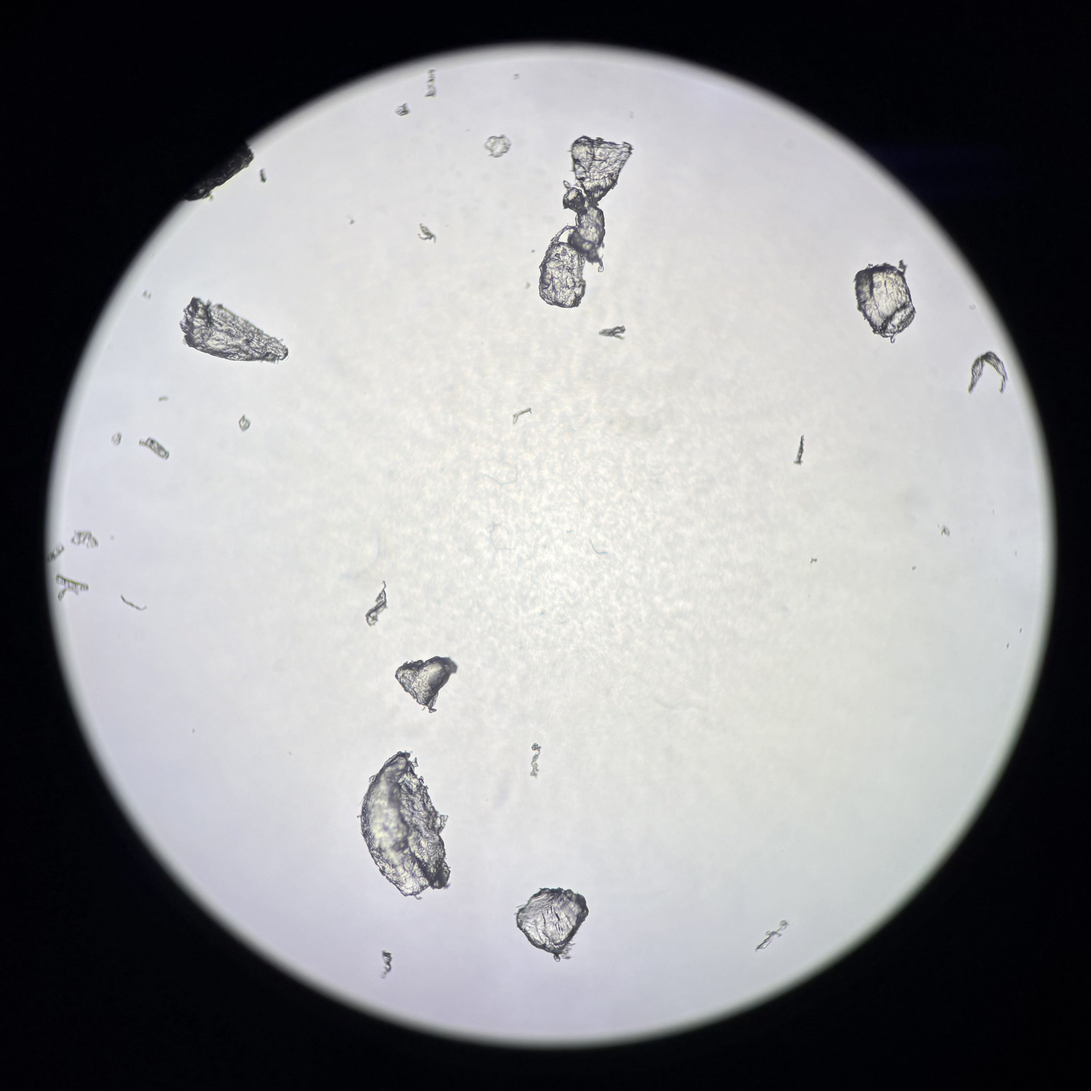microplastic: (533, 129, 632, 311), (355, 751, 456, 902), (173, 293, 295, 372), (504, 881, 592, 957), (851, 260, 923, 342), (394, 652, 464, 717), (960, 346, 1011, 399), (354, 574, 397, 630), (50, 574, 97, 606), (482, 131, 521, 159), (135, 436, 175, 462)
